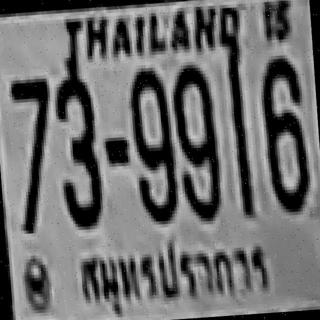N00: (169, 62, 216, 164), (126, 67, 171, 165)
N03: (53, 70, 104, 226)
N06: (259, 56, 310, 212)
N07: (8, 75, 56, 212), (8, 75, 54, 186), (8, 75, 53, 174)
N09: (126, 66, 178, 222), (169, 62, 220, 221)
P57: (74, 233, 274, 315)
